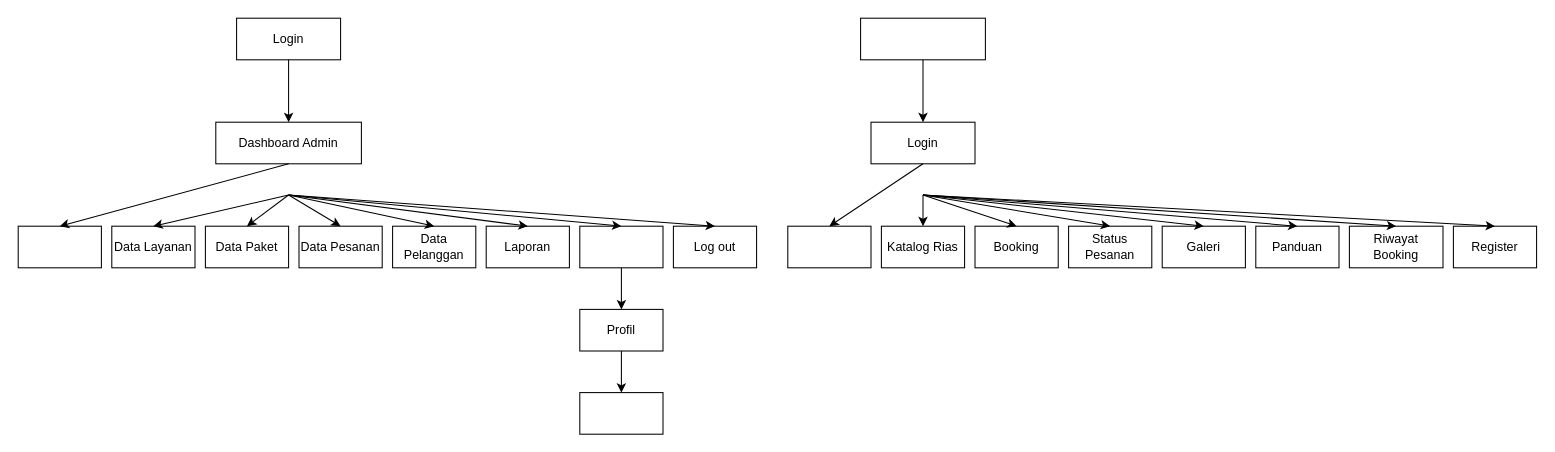
Some shapes in this 1555 by 452 pixel diagram are drawn without their labels. The shapes that lost their labels are listed below. From the top down, each one's centre as x and y in pixels, then its label:
At point 922,38: "Halaman Utama".
At point 59,246: "Dashboard".
At point 621,246: "Pengaturan".
At point 829,246: "Beranda".
At point 621,413: "Ubah Password".
